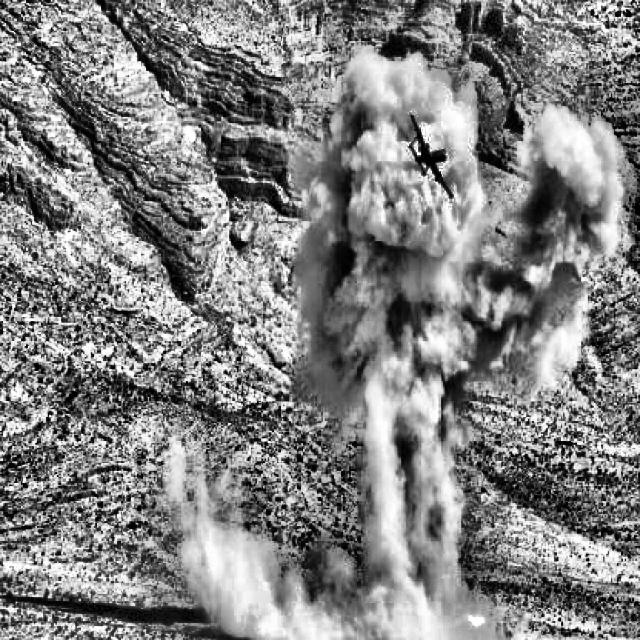A10: (408, 113, 454, 199)
